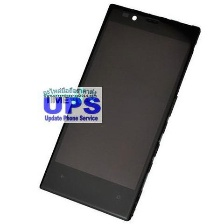phone: (36, 0, 204, 224)
